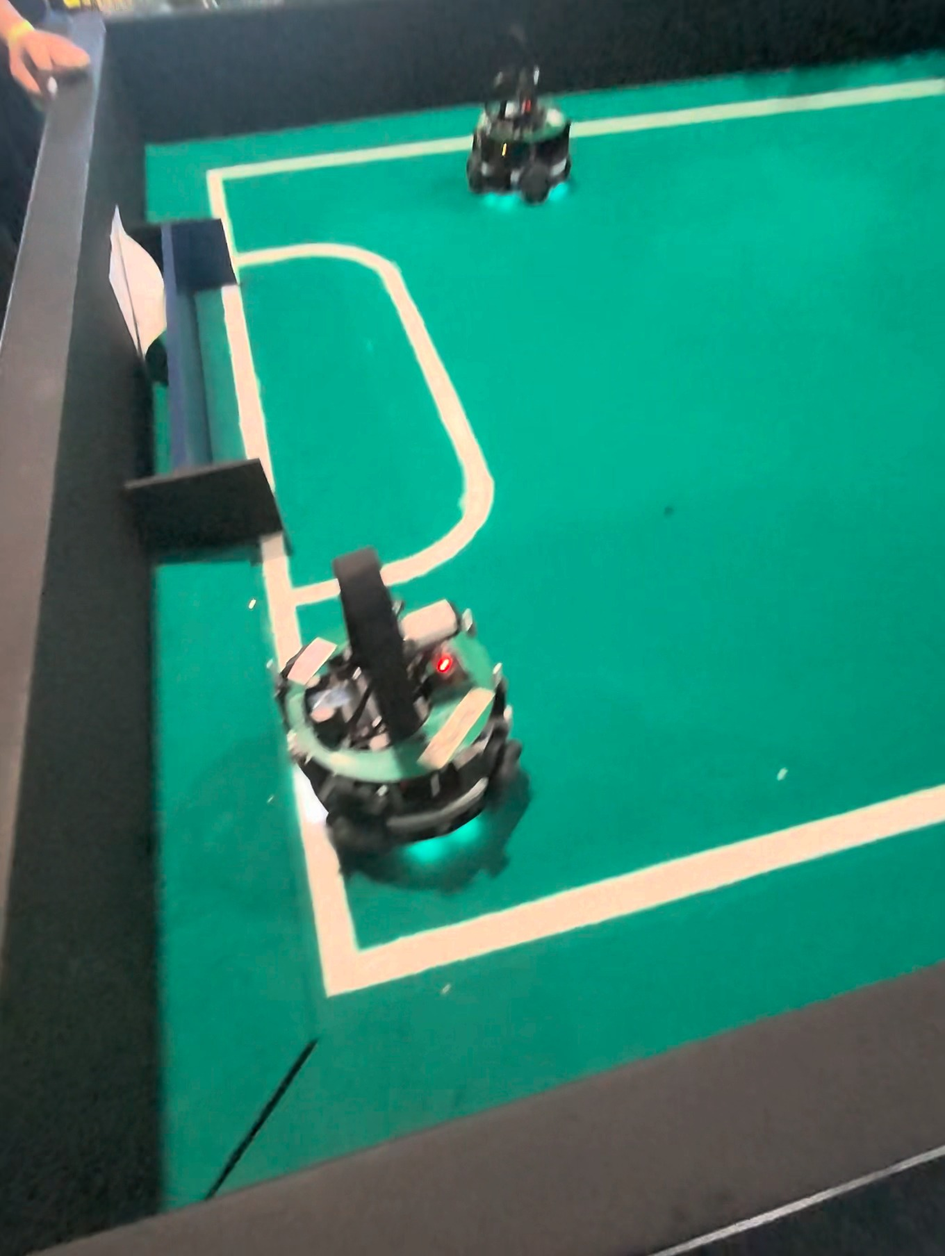Robot: (273, 539, 539, 904), (464, 34, 581, 217)
